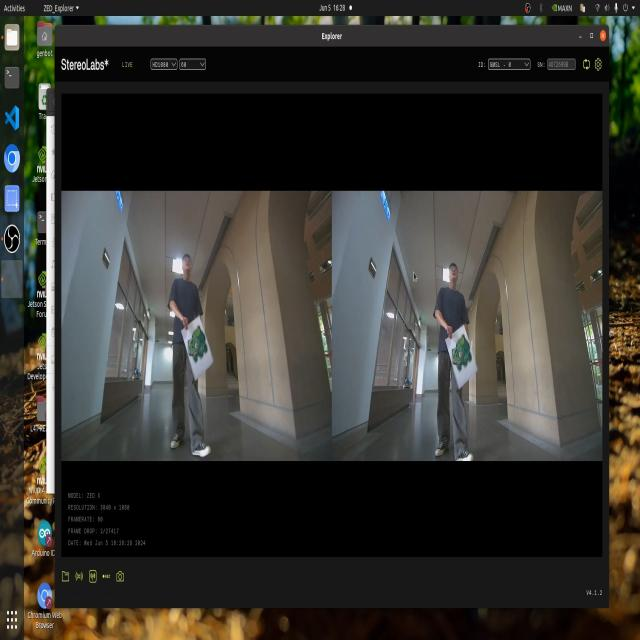green: (185, 307, 219, 377), (446, 331, 473, 383)
